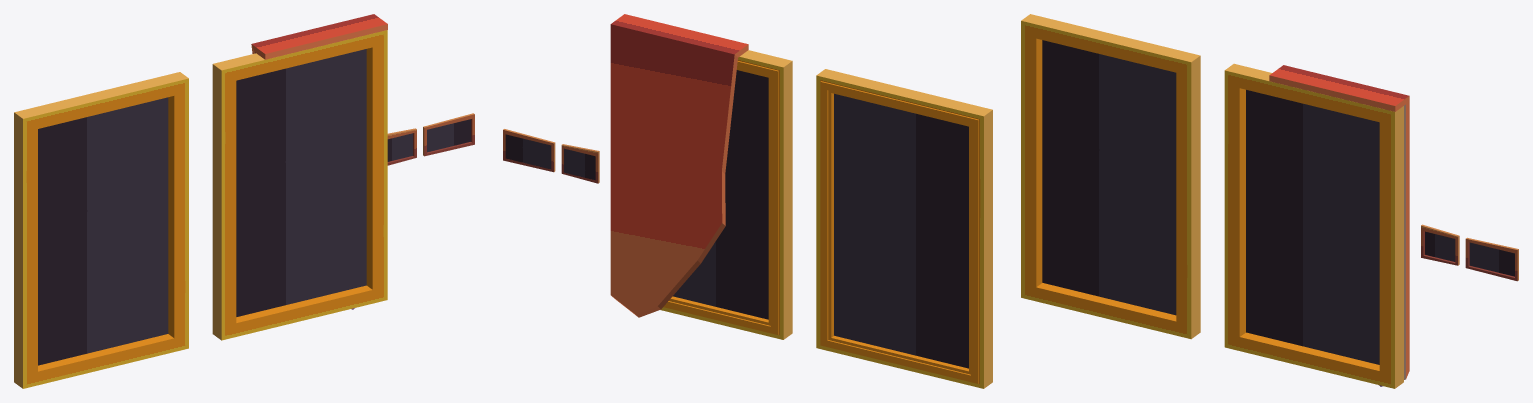
File: tableaux_combine_assets.fbx
The picture shows the model from 3 angles, left to right: view 1: azimuth 30°, elevation 25°; view 2: azimuth 150°, elevation 25°; view 3: azimuth 330°, elevation 25°; orthographic projection. The views are drawn at different scales.
Visible parts, largest first — view 1: tableau_06; view 2: tableau_06; view 3: tableau_06.
Boxes of the visible parts, left/top/right/bottom form: tableau_06: left=14, top=14, right=474, bottom=388; tableau_06: left=503, top=14, right=992, bottom=388; tableau_06: left=1021, top=14, right=1518, bottom=388.
Bounding box in the file's own units: 1400 × 822 × 90.5.
Materials: 1 (1 with a texture image).
